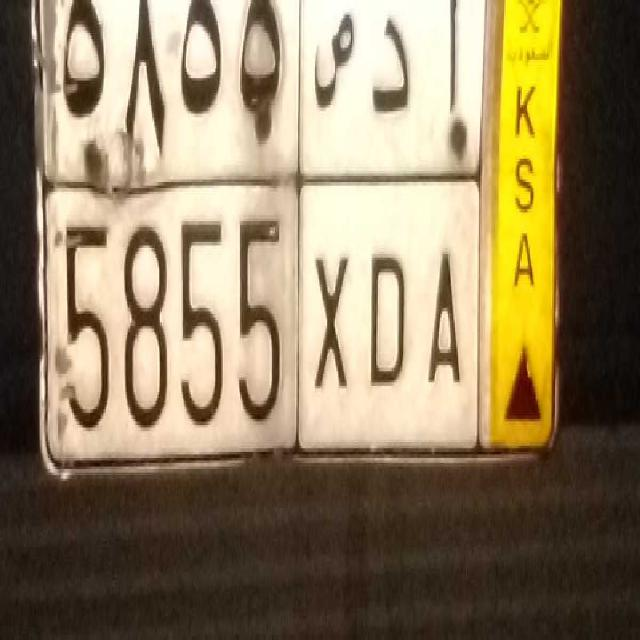license_plate: (46, 183, 477, 454)
